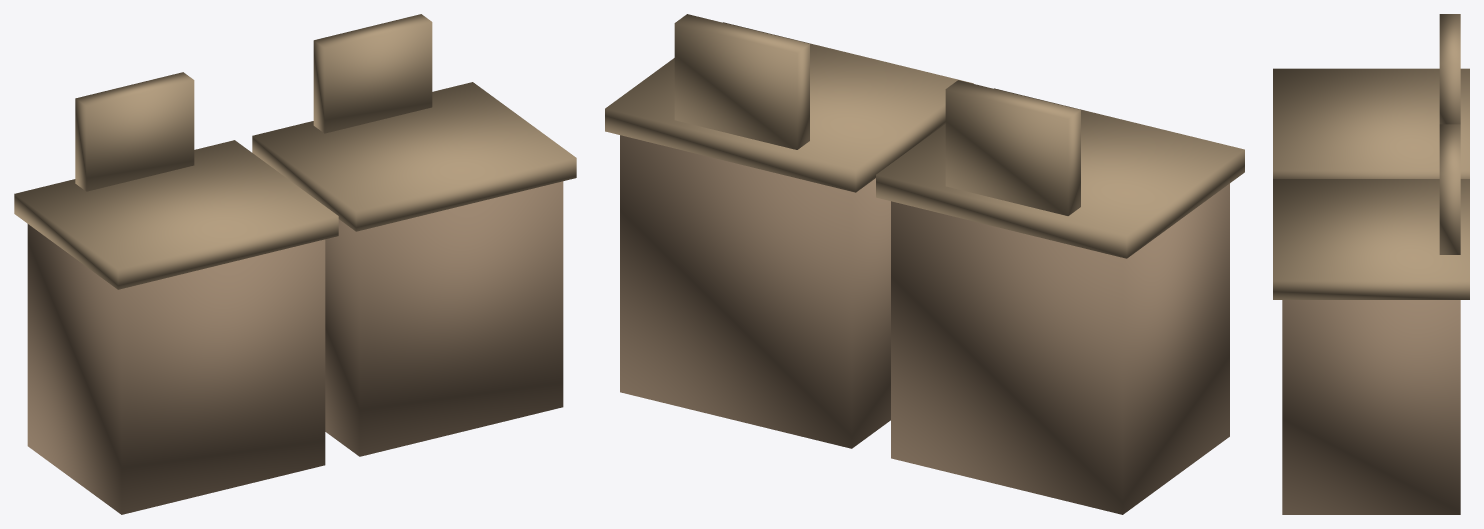
Rendered from witness_stand__cluster.glb.
The picture shows the model from 3 angles, left to right: view 1: azimuth 30°, elevation 25°; view 2: azimuth 150°, elevation 25°; view 3: azimuth 270°, elevation 25°; orthographic projection. The views are drawn at different scales.
Visible parts, largest first — view 1: world; view 2: world; view 3: world.
Part boxes in pixels (x1,y1,x2,y2): world: (14,14,576,514); world: (605,14,1244,514); world: (1273,14,1469,514).
Bounding box in the file's own units: 1.91 × 1.34 × 0.75.
